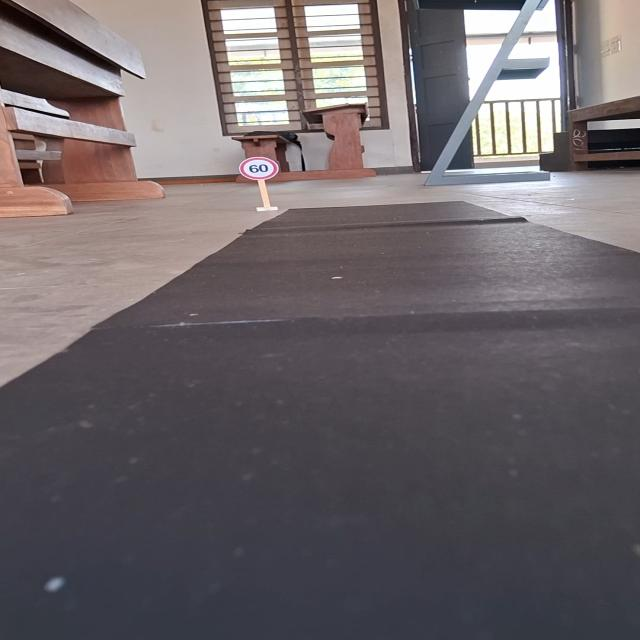Speed60: (237, 156, 280, 181)
